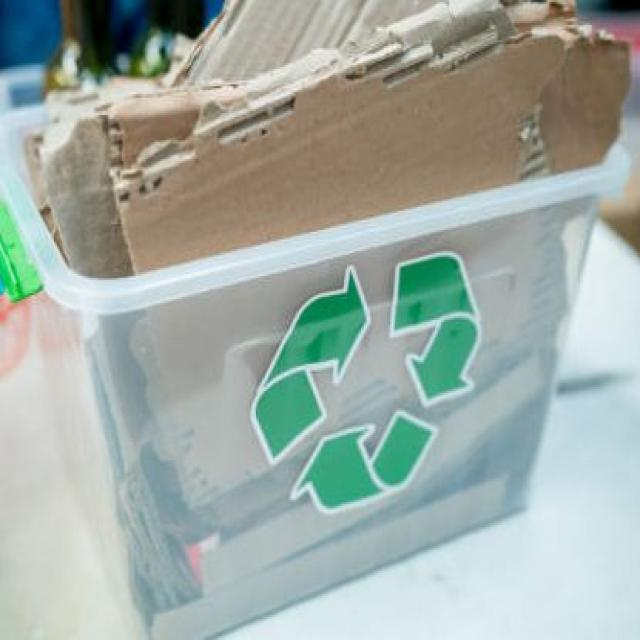electronic: (39, 0, 630, 278)
